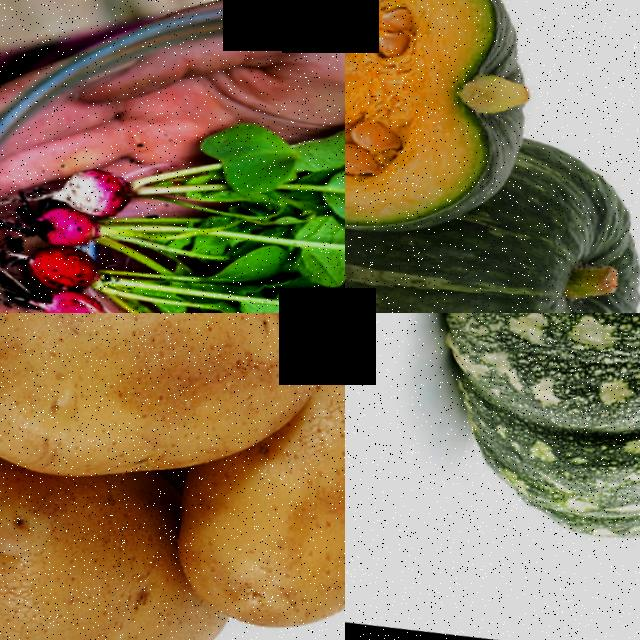potato: (0, 313, 345, 523), (171, 333, 345, 640), (0, 450, 194, 640)
pumpkin: (397, 313, 640, 581), (345, 0, 561, 259), (345, 205, 640, 313)
radishes: (0, 144, 229, 313)
